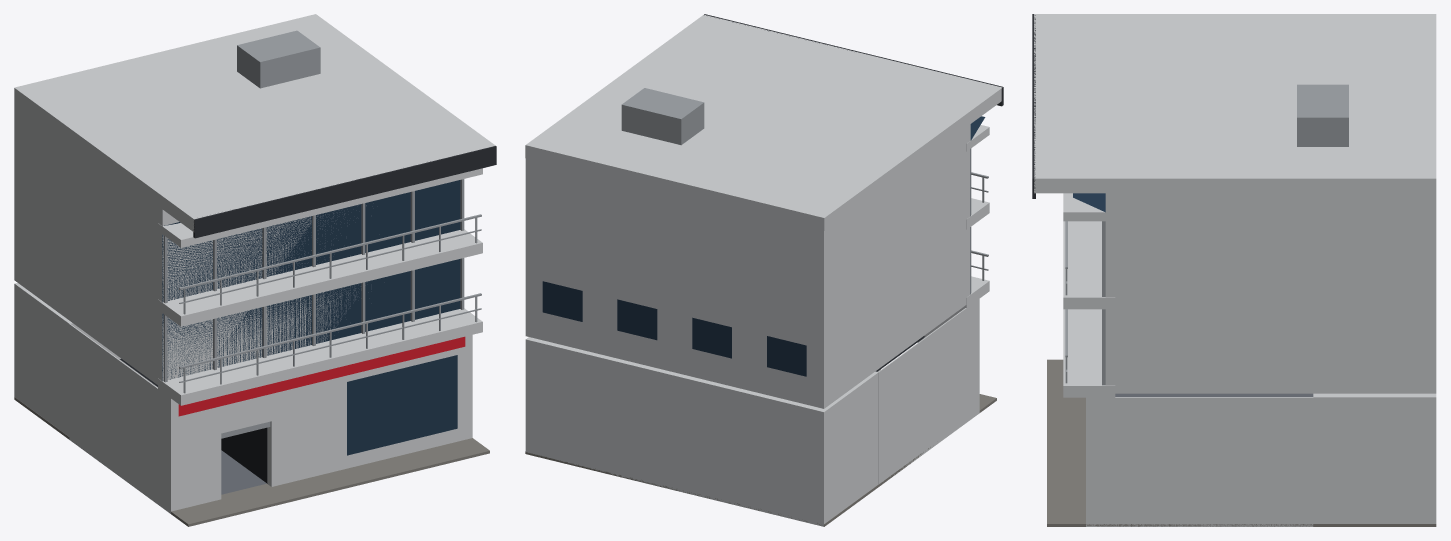
Rendered from office.glb.
3 renders of one model, left to right at view 1: azimuth 30°, elevation 25°; view 2: azimuth 150°, elevation 25°; view 3: azimuth 270°, elevation 25°, orthographic. The views are drawn at different scales.
Parts seen in each view (by area): view 1: office; view 2: office; view 3: office.
Part boxes in pixels (box(x1,y1,x2,y2)): office: box(14, 14, 496, 526); office: box(525, 14, 1003, 526); office: box(1032, 14, 1436, 526).
Bounding box in the file's own units: 12 × 12.85 × 12.47.
